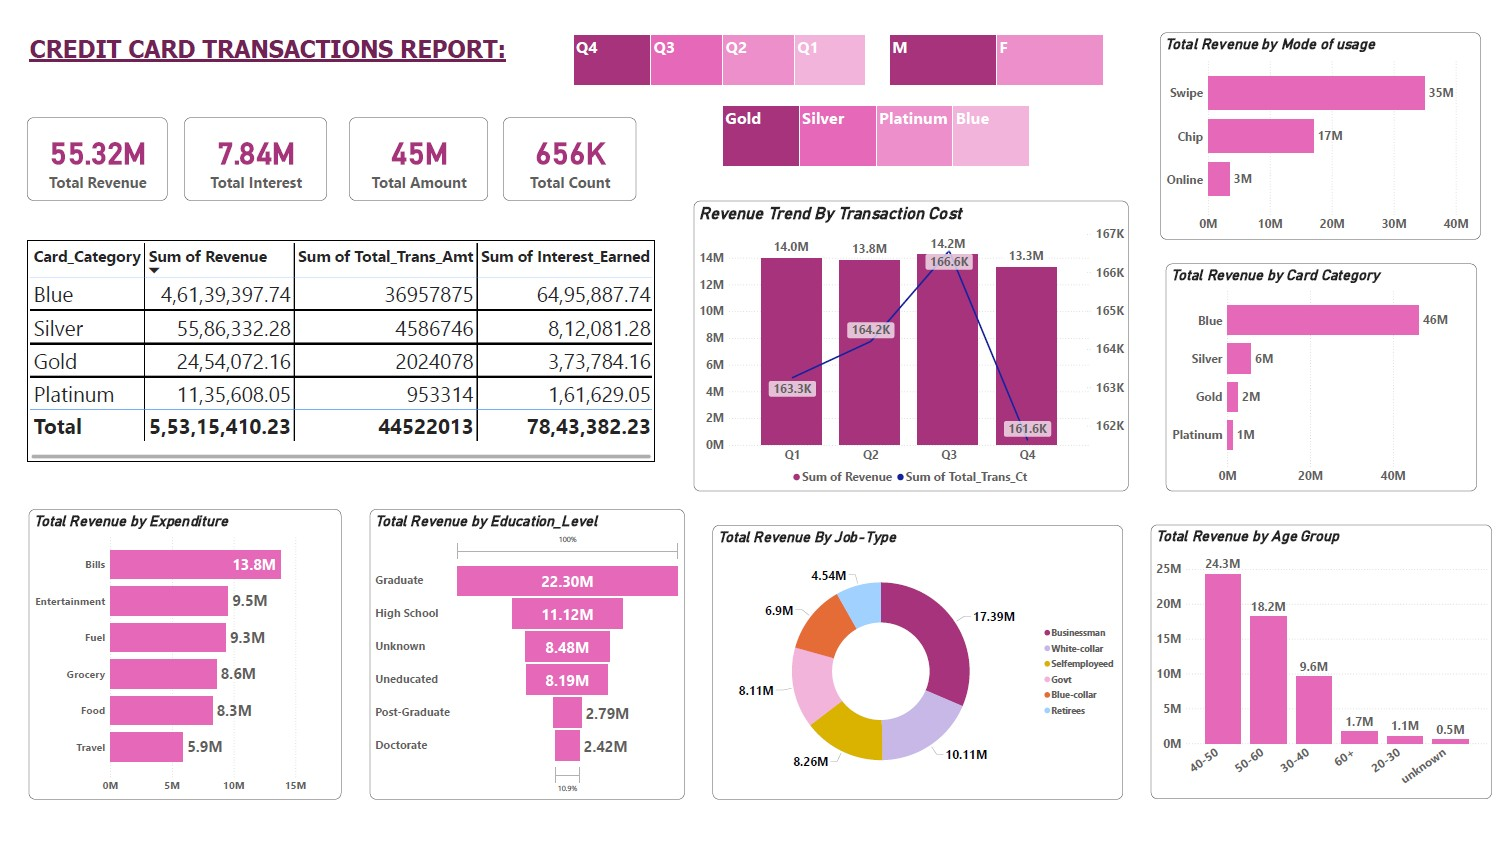

What the dashboard file says about the page in this screenshot:
{"tool":"powerbi","page":{"name":"Page 1","canvas":[2700,1500],"ordinal":0},"visuals":[{"type":"lineStackedColumnComboChart","title":"Revenue Trend By Transaction Cost","fields":{"Category":["ccdb cc_detail.Qtr"],"Y":["Sum(ccdb cc_detail.Revenue)"],"Y2":["Sum(ccdb cc_detail.Total_Trans_Ct)"]},"box":[1230,350,783.3,523.3],"z":0},{"type":"textbox","box":[30,45,880,80],"z":1000},{"type":"card","fields":{"Values":["Sum(ccdb cc_detail.Revenue)"]},"box":[30,200,253.3,150],"z":2000},{"type":"card","fields":{"Values":["Sum(ccdb cc_detail.Total_Trans_Amt)"]},"box":[610,200,250,150],"z":3000},{"type":"card","fields":{"Values":["Sum(ccdb cc_detail.Total_Trans_Ct)"]},"box":[886.7,200,240,150],"z":4000},{"type":"card","fields":{"Values":["Sum(ccdb cc_detail.Interest_Earned)"]},"box":[313.3,200,256.7,150],"z":5000},{"type":"columnChart","title":"Total Revenue by Age Group","fields":{"Category":["ccdb cust_detail.Age Group"],"Y":["Sum(ccdb cc_detail.Revenue)"]},"box":[2053.3,933.3,613.3,493.3],"z":6000},{"type":"donutChart","title":"Total Revenue By Job-Type","fields":{"Category":["ccdb cust_detail.Customer_Job"],"Y":["Sum(ccdb cc_detail.Revenue)"]},"box":[1264,934.5,739,493.8],"z":7000},{"type":"funnel","title":"Total Revenue by Education_Level","fields":{"Category":["ccdb cust_detail.Education_Level"],"Y":["Sum(ccdb cc_detail.Revenue)"]},"box":[646.9,904.7,566.7,523.6],"z":8000},{"type":"barChart","title":"Total Revenue by Expenditure","fields":{"Category":["ccdb cc_detail.Exp_Type"],"Y":["Sum(ccdb cc_detail.Revenue)"]},"box":[33.1,904.7,563.3,523.6],"z":9000},{"type":"tableEx","fields":{"Values":["ccdb cc_detail.Card_Category","Sum(ccdb cc_detail.Revenue)","Sum(ccdb cc_detail.Total_Trans_Amt)","Sum(ccdb cc_detail.Interest_Earned)"]},"box":[29.8,420.8,1130,397.7],"z":10000},{"type":"treemap","title":"Quarters","fields":{"Group":["ccdb cc_detail.Qtr"],"Values":["Min(ccdb cc_detail.Client_Num)"]},"box":[1007.5,45,537.5,102.5],"z":11000},{"type":"treemap","title":"Quarters","fields":{"Group":["ccdb cc_detail.Card_Category"],"Values":["Min(ccdb cc_detail.Client_Num)"]},"box":[1276.7,173.3,563.3,120],"z":12000},{"type":"treemap","title":"Quarters","fields":{"Group":["ccdb cust_detail.Gender"],"Values":["Min(ccdb cc_detail.Client_Num)"]},"box":[1577.5,45,395,102.5],"z":13000},{"type":"barChart","title":"Total Revenue by Card Category","fields":{"Y":["Sum(ccdb cc_detail.Revenue)"],"Category":["ccdb cc_detail.Card_Category"]},"box":[2080,463.3,560,410],"z":14000},{"type":"barChart","title":"Total Revenue by Mode of usage","fields":{"Y":["Sum(ccdb cc_detail.Revenue)"],"Category":["ccdb cc_detail.Use_Chip"]},"box":[2070,46.7,576.7,373.3],"z":15000}]}

Visuals, with their boxes in screenshot pixels (x1, y1, x2, y2), scaled from the page's 2700x1500 canvas onto the 1511x844 screenshot:
"Revenue Trend By Transaction Cost" lineStackedColumnComboChart: {"x1": 688, "y1": 197, "x2": 1127, "y2": 491}
textbox: {"x1": 17, "y1": 25, "x2": 509, "y2": 70}
card - Sum(ccdb cc_detail.Revenue): {"x1": 17, "y1": 113, "x2": 159, "y2": 197}
card - Sum(ccdb cc_detail.Total_Trans_Amt): {"x1": 341, "y1": 113, "x2": 481, "y2": 197}
card - Sum(ccdb cc_detail.Total_Trans_Ct): {"x1": 496, "y1": 113, "x2": 631, "y2": 197}
card - Sum(ccdb cc_detail.Interest_Earned): {"x1": 175, "y1": 113, "x2": 319, "y2": 197}
"Total Revenue by Age Group" columnChart: {"x1": 1149, "y1": 525, "x2": 1492, "y2": 803}
"Total Revenue By Job-Type" donutChart: {"x1": 707, "y1": 526, "x2": 1121, "y2": 804}
"Total Revenue by Education_Level" funnel: {"x1": 362, "y1": 509, "x2": 679, "y2": 804}
"Total Revenue by Expenditure" barChart: {"x1": 19, "y1": 509, "x2": 334, "y2": 804}
tableEx - ccdb cc_detail.Card_Category x Sum(ccdb cc_detail.Revenue): {"x1": 17, "y1": 237, "x2": 649, "y2": 461}
"Quarters" treemap: {"x1": 564, "y1": 25, "x2": 865, "y2": 83}
"Quarters" treemap: {"x1": 714, "y1": 98, "x2": 1030, "y2": 165}
"Quarters" treemap: {"x1": 883, "y1": 25, "x2": 1104, "y2": 83}
"Total Revenue by Card Category" barChart: {"x1": 1164, "y1": 261, "x2": 1477, "y2": 491}
"Total Revenue by Mode of usage" barChart: {"x1": 1158, "y1": 26, "x2": 1481, "y2": 236}
